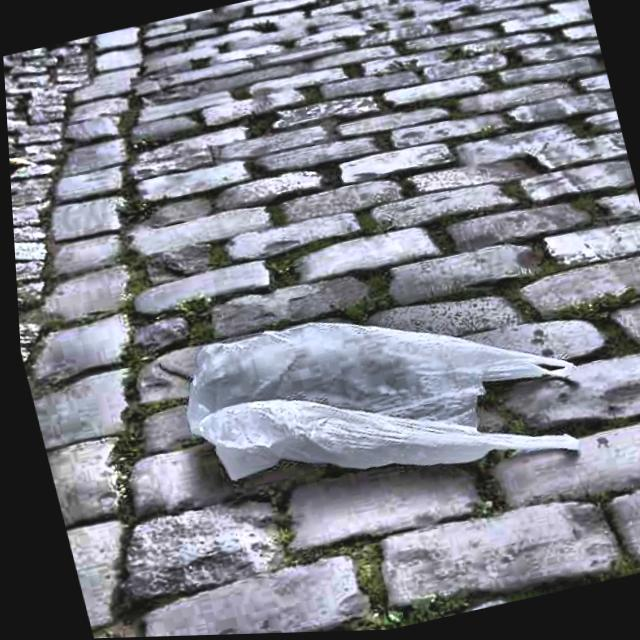Plastic: (155, 250, 619, 557)
